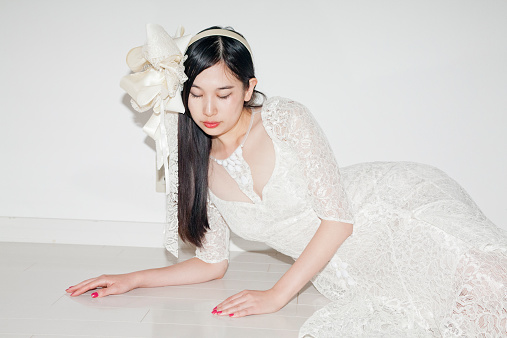deitado: (104, 18, 363, 337)
